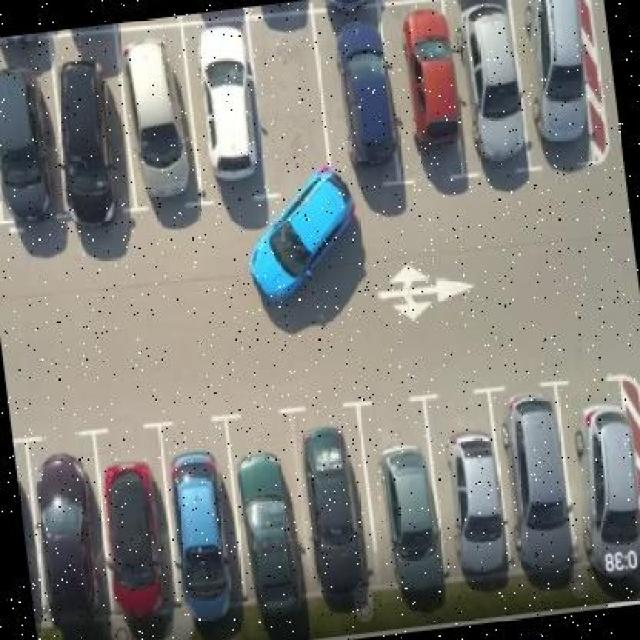Car: (498, 379, 589, 592), (158, 438, 247, 633), (24, 448, 108, 640), (238, 172, 362, 299), (95, 447, 178, 635), (567, 386, 640, 581), (43, 52, 126, 215), (233, 435, 301, 632), (297, 424, 368, 610), (524, 1, 604, 164), (124, 40, 196, 217), (433, 423, 507, 594), (375, 430, 444, 607), (321, 9, 403, 156), (193, 26, 269, 183), (450, 1, 521, 161), (1, 66, 61, 238), (403, 2, 464, 158)
Empty: (247, 9, 333, 186)
